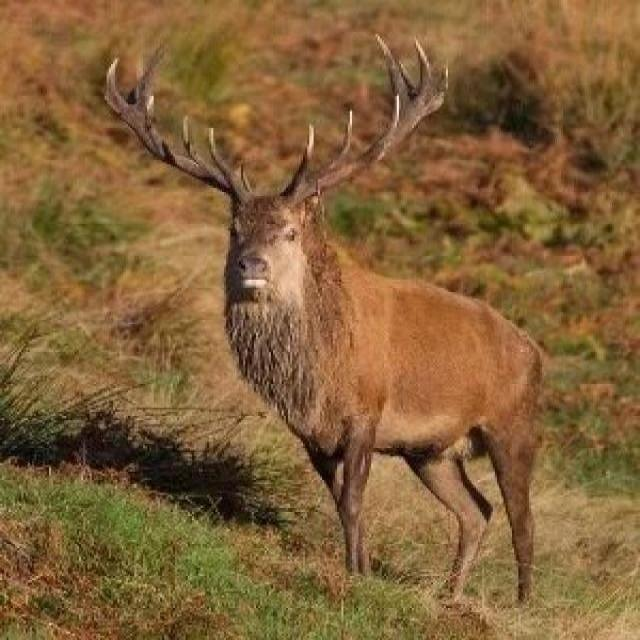deer: (152, 37, 546, 560)
